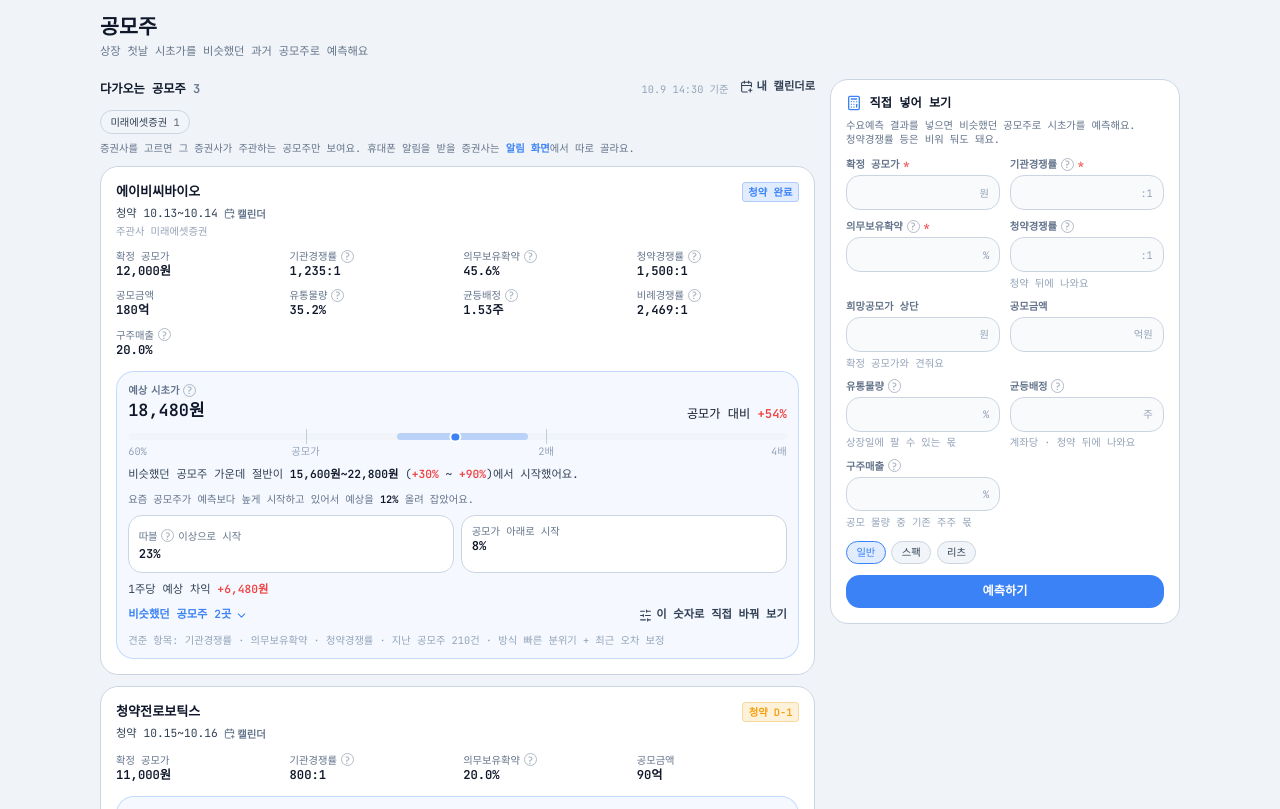
Test: 공모주 — 다가오는 공모주 › 비슷했던 공모주를 펼쳐 본다 — 상장한 종목은 종목 화면으로 이어진다
Click the button "비슷했던 공모주 2곳" at (188, 615), box [128,607,248,623]
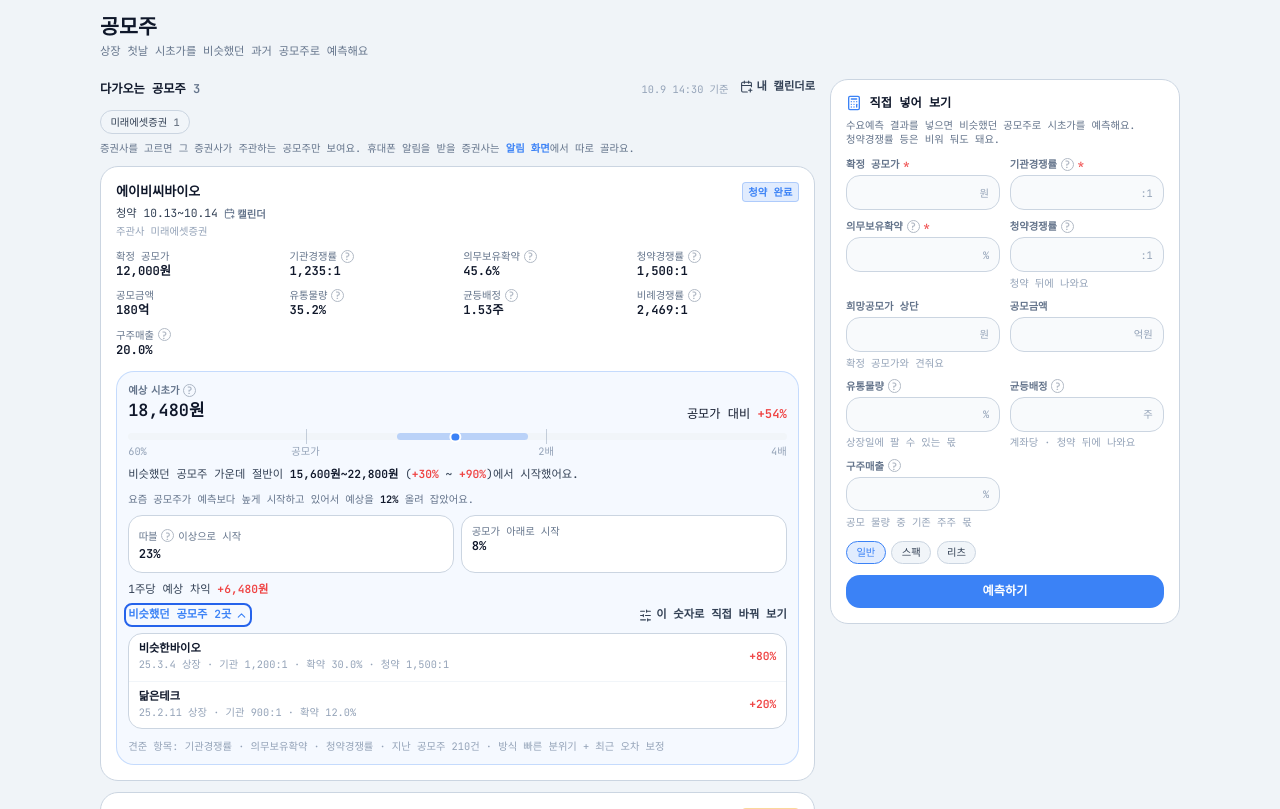
Result: the text "닮은테크" is shown at [139,689,180,703]
Result: the text "+80%" is shown at [749,649,776,665]
